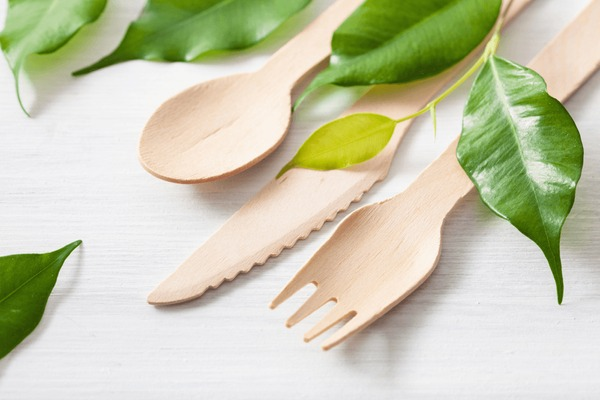Wooden Utensils: (88, 9, 547, 333)
